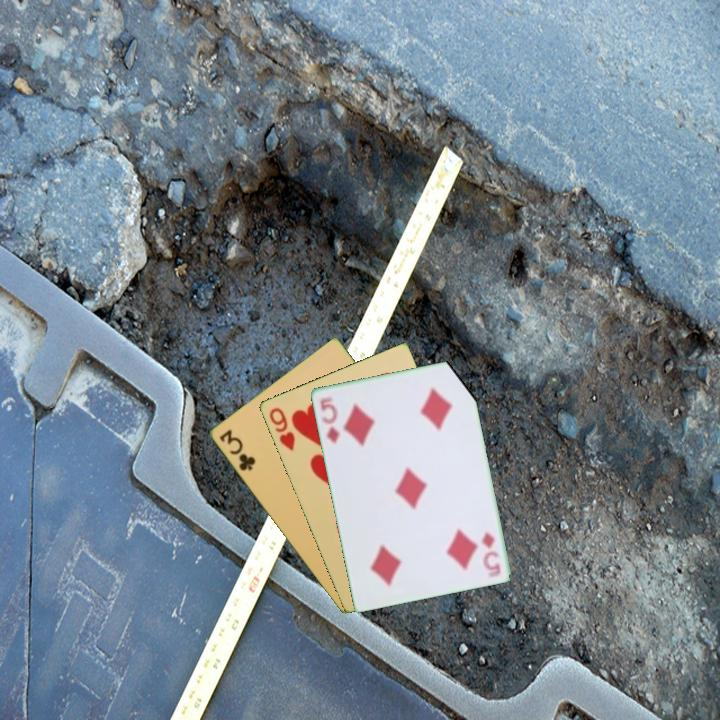3c: (215, 426, 258, 474)
5d: (316, 392, 342, 446), (477, 528, 503, 580)
9h: (265, 404, 298, 454)
